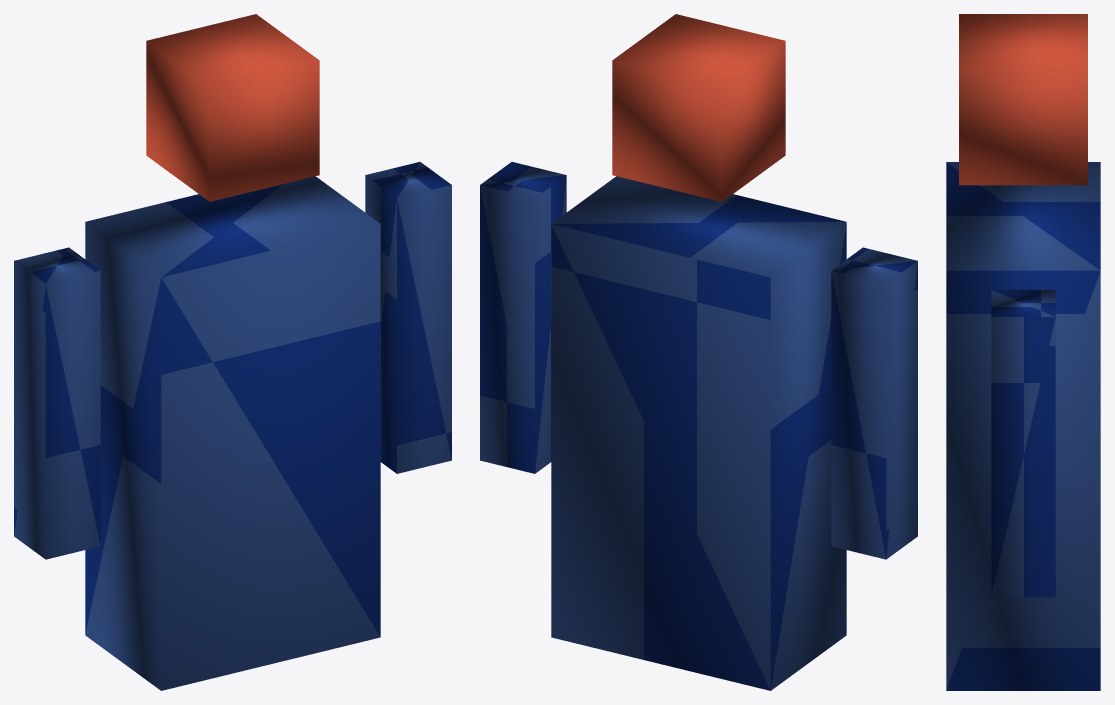
3 renders of one model, left to right at view 1: azimuth 30°, elevation 25°; view 2: azimuth 150°, elevation 25°; view 3: azimuth 270°, elevation 25°, orthographic.
Parts seen in each view (by area): view 1: body, head, left-arm, right-arm; view 2: body, head, left-arm, right-arm; view 3: body, head, right-arm.
Part boxes in pixels (x1,y1,x2,y2): body: (85, 176, 380, 690); head: (146, 14, 319, 201); left-arm: (14, 247, 100, 559); right-arm: (365, 162, 451, 473); body: (551, 176, 846, 690); head: (612, 14, 785, 201); left-arm: (831, 247, 917, 559); right-arm: (480, 162, 566, 473); body: (946, 162, 1100, 690); head: (959, 14, 1087, 185); right-arm: (991, 289, 1055, 597).
Size of the model in its own units: 1.85 by 2.55 by 0.6.
2 materials, 1 textured.
